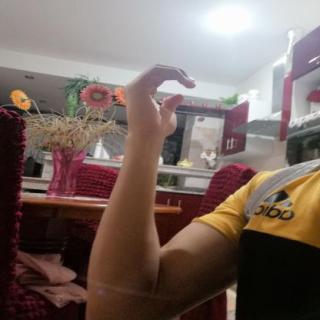JEEM: (114, 59, 206, 146)
